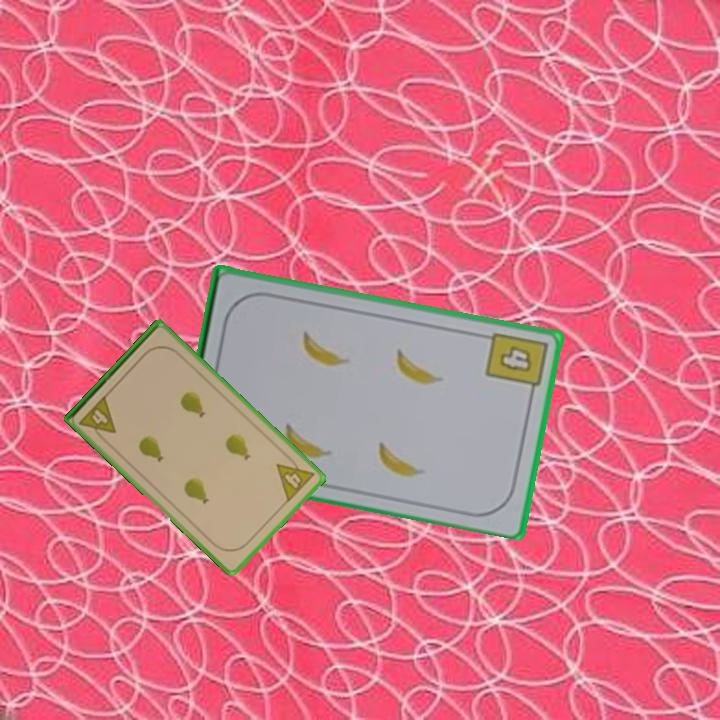4b: (482, 328, 550, 399)
4p: (273, 451, 317, 505), (76, 392, 119, 445)
